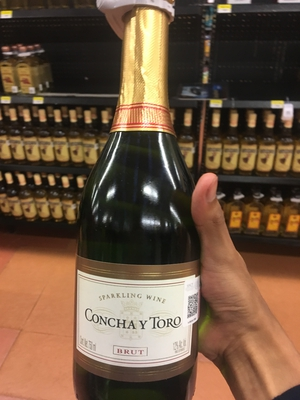brut: (74, 13, 205, 400)
